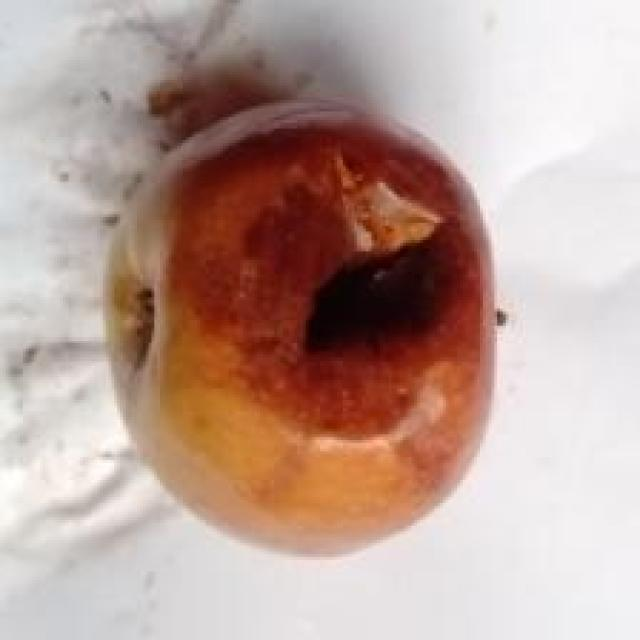rotten apple: (74, 42, 547, 583)
